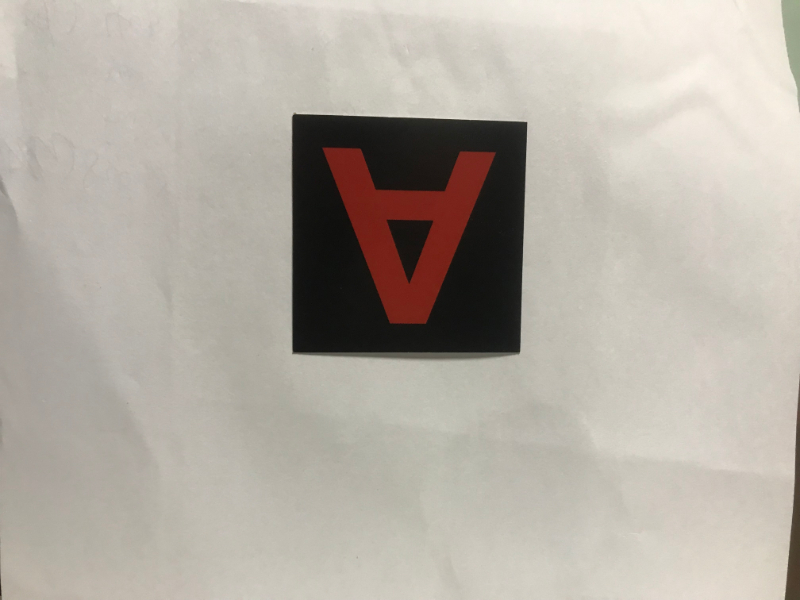A-11: (295, 121, 516, 348)
